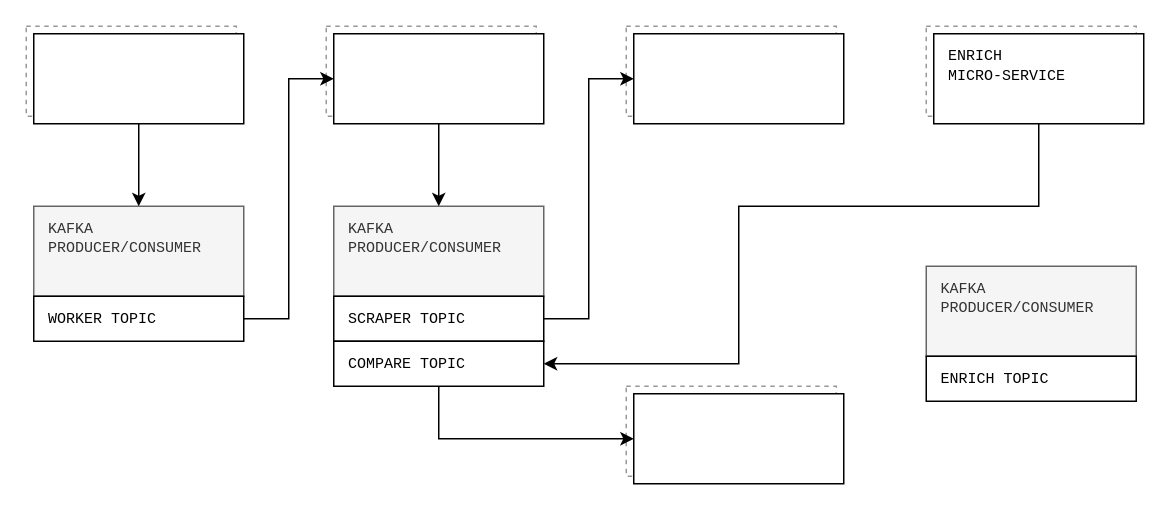
Some shapes in this 1170 by 510 pixel diagram are drawn without their labels. Each missing label, with the centre of its shape:
"COMPARE MICRO-SERVICE" goes at point (738, 438).
"FEEDS MICRO-SERVICE" goes at point (138, 78).
"SCRAPER MICRO-SERVICE" goes at point (738, 78).
"WORKER MICRO-SERVICE" goes at point (438, 78).
